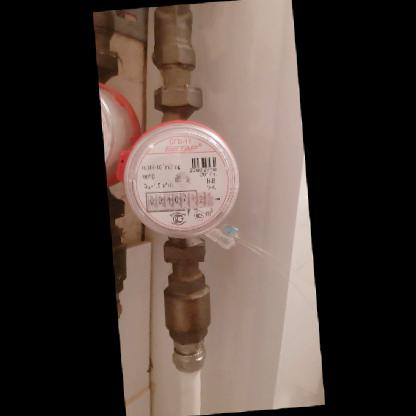digital_screen: (142, 188, 189, 211)
